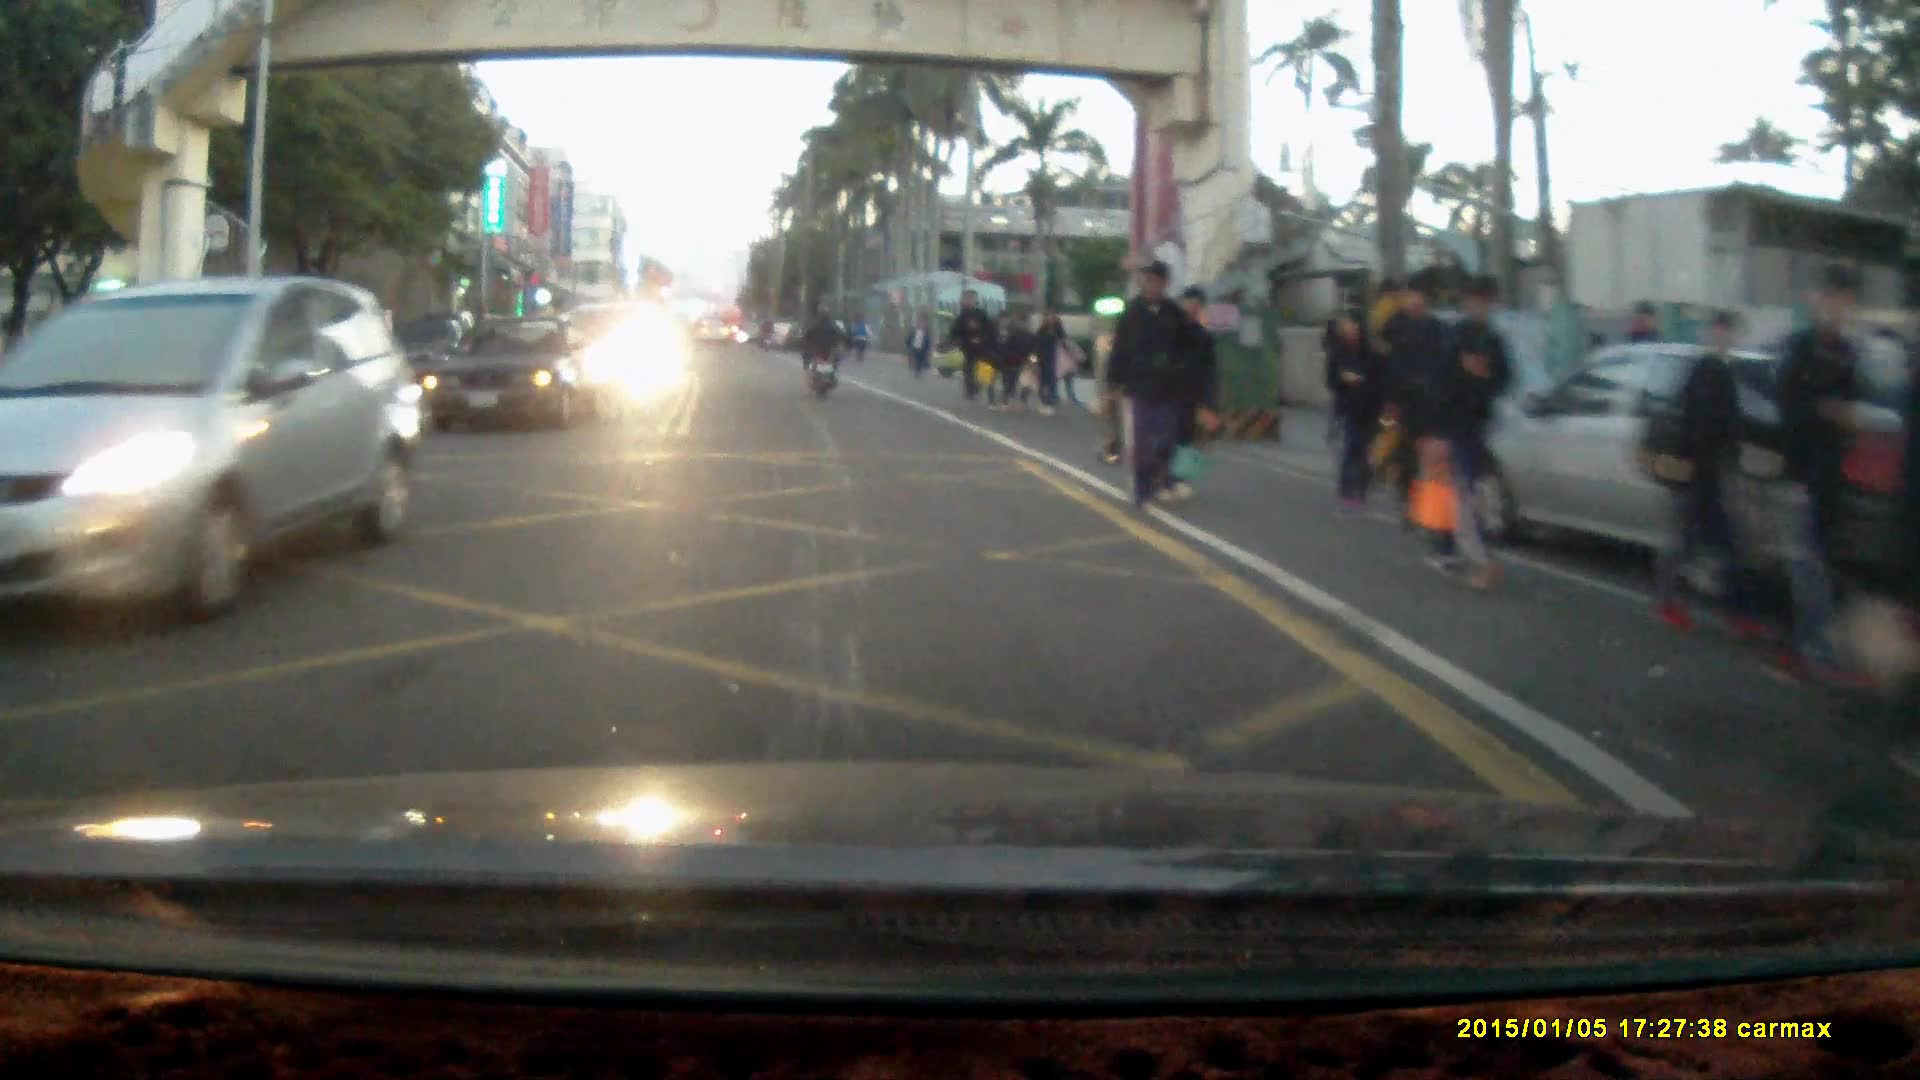pedestrian: (1762, 265, 1882, 699), (1655, 305, 1780, 661), (1423, 264, 1522, 590), (1102, 252, 1192, 505), (1378, 274, 1452, 527), (1155, 280, 1222, 486), (1322, 305, 1383, 518), (1030, 306, 1072, 418), (952, 285, 991, 404), (984, 302, 1025, 406), (904, 310, 930, 378)
rider: (800, 303, 843, 400)
vehicle: (1, 273, 423, 641), (1451, 334, 1877, 624), (427, 312, 606, 431)
